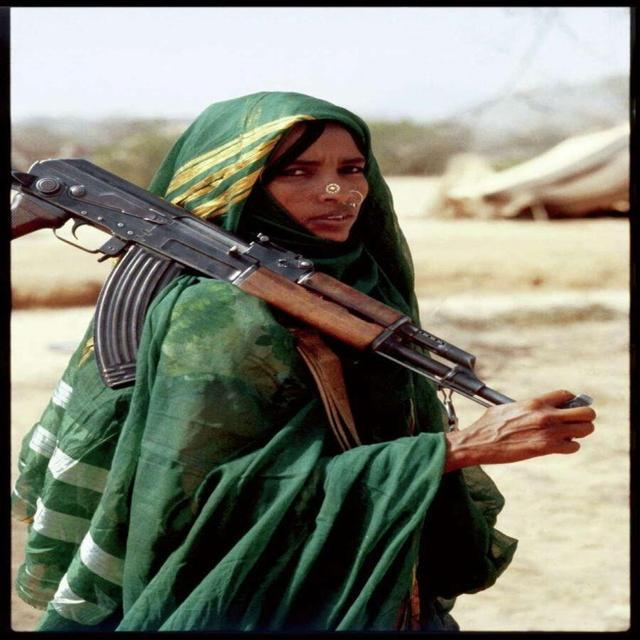ak: (4, 144, 597, 462)
